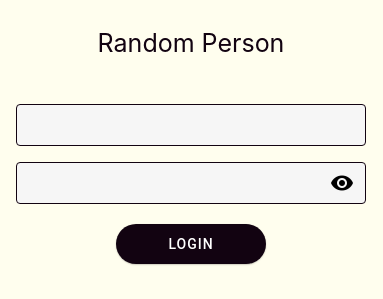
should show both user and password error message if both not valid
Click the button with test id "loginButton". click: (191, 244)
box: [116,224,266,264]
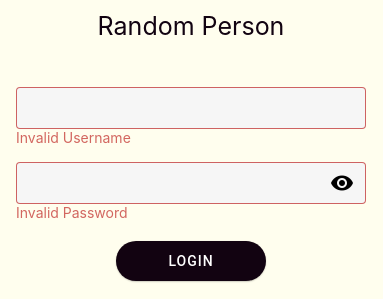
Result: the text "Invalid Password" is shown at [16,204,128,221]
Result: the text "Invalid Username" is shown at [16,129,131,146]
